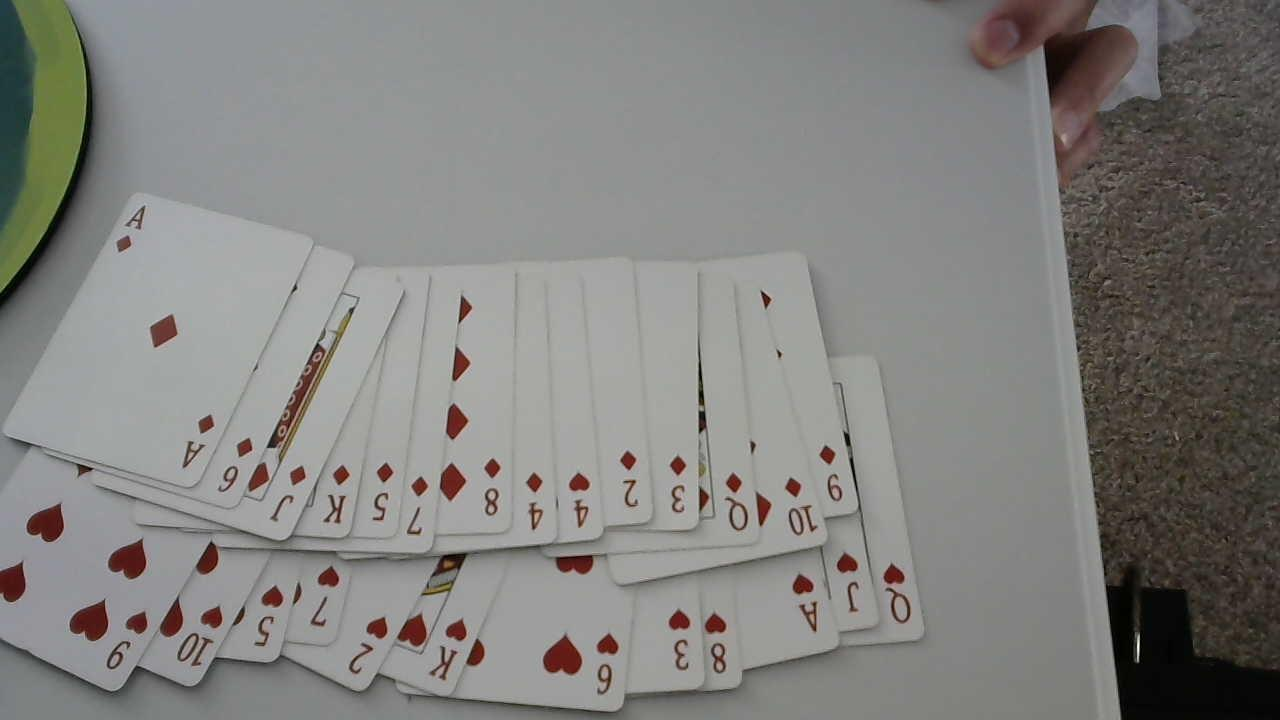10D: (784, 473, 823, 536)
10H: (172, 602, 227, 672)
2D: (617, 448, 645, 510)
2H: (345, 614, 393, 676)
3D: (668, 452, 693, 513)
3H: (663, 605, 693, 672)
4D: (522, 472, 548, 534)
4H: (564, 470, 597, 531)
5D: (368, 459, 396, 522)
5H: (251, 583, 288, 648)
6D: (217, 434, 255, 494)
6H: (592, 628, 621, 699)
7D: (403, 472, 430, 535)
7H: (307, 560, 342, 631)
8D: (482, 455, 503, 516)
8H: (703, 609, 731, 675)
9D: (820, 439, 844, 507)
9H: (103, 608, 152, 673)
AD: (177, 411, 221, 468), (112, 201, 149, 253)
AH: (788, 569, 825, 634)
JD: (268, 462, 309, 522)
JH: (836, 548, 863, 619)
KD: (322, 464, 355, 528)
KH: (426, 613, 472, 684)
QD: (720, 467, 750, 532)
QH: (880, 560, 914, 627)
